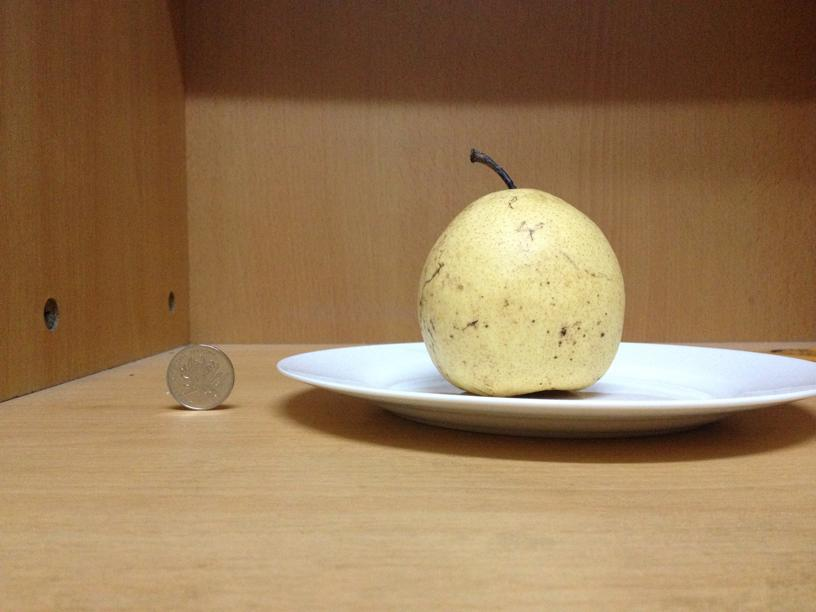coin: (163, 345, 235, 411)
pear: (410, 187, 625, 395)
